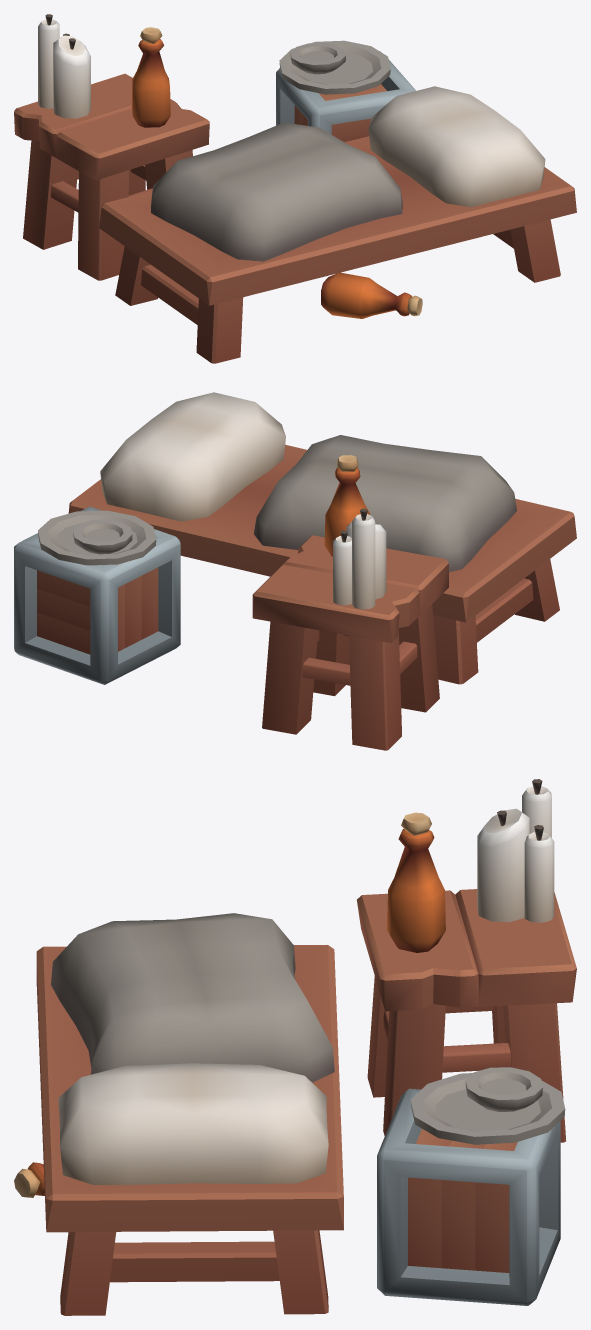
The model's file is 超级床使用后.fbx.
3 renders of one model, top to bottom at view 1: azimuth 30°, elevation 25°; view 2: azimuth 150°, elevation 25°; view 3: azimuth 270°, elevation 25°, orthographic. The views are drawn at different scales.
Parts seen in each view (by area): view 1: bed_decorated.002; view 2: bed_decorated.002; view 3: bed_decorated.002.
Part boxes in pixels (box(x1,y1,x2,y2)): bed_decorated.002: box(14, 14, 576, 363); bed_decorated.002: box(14, 392, 576, 750); bed_decorated.002: box(14, 779, 576, 1315).
Size of the model in its own units: 309 by 170 by 284.
Materials: 1 (1 with a texture image).
